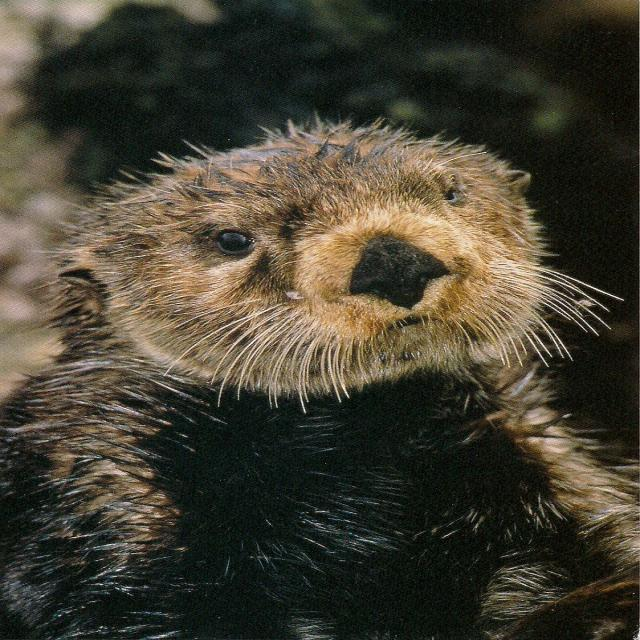otter: (1, 128, 640, 608)
